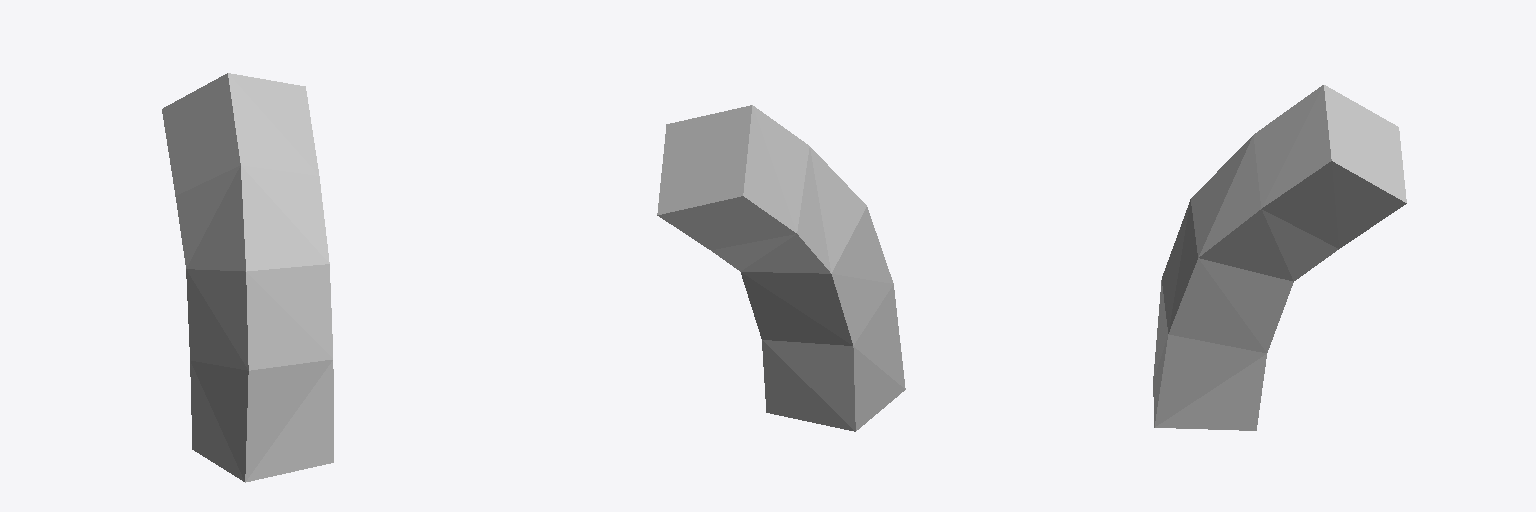
The model's file is wiggle_000026.obj.
3 views of the same model, side by side, from view 1: azimuth 30°, elevation 25°; view 2: azimuth 150°, elevation 25°; view 3: azimuth 270°, elevation 25° (orthographic).
Parts seen in each view (by area): view 1: Cube; view 2: Cube; view 3: Cube.
Part boxes in pixels (x1,y1,x2,y2): Cube: (162,73,333,482); Cube: (657,105,905,431); Cube: (1153,85,1406,430).
Bounding box in the file's own units: 3.39 × 7.21 × 4.92.